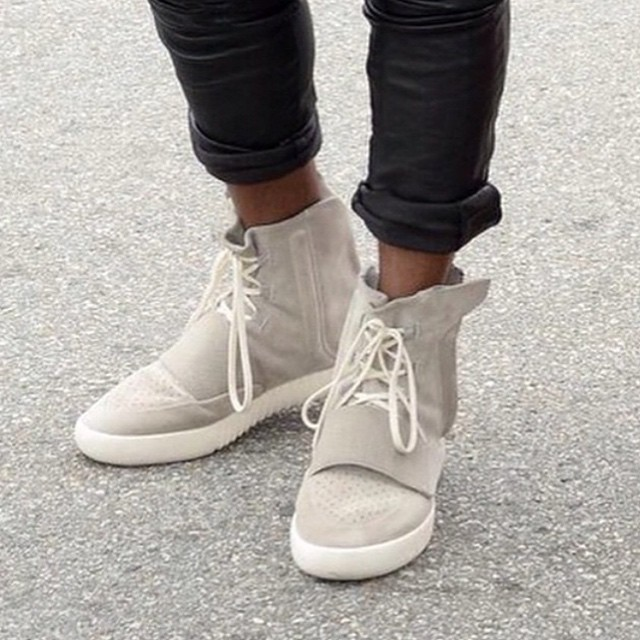sneaker: (53, 154, 383, 494), (258, 209, 529, 592)
